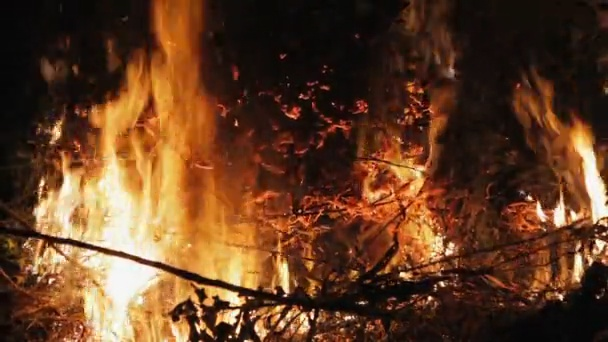fire: (30, 44, 257, 342), (364, 144, 452, 278), (569, 122, 608, 281), (537, 199, 566, 229), (268, 252, 288, 292)
